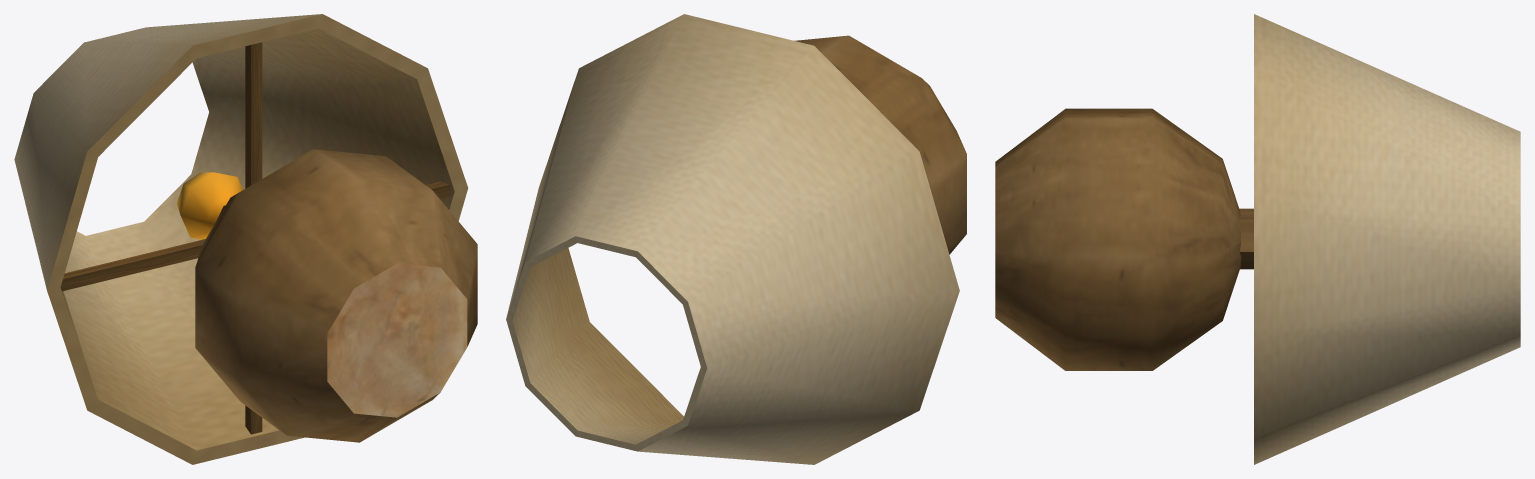
The model's file is Log_Lamp_B.fbx.
The picture shows the model from 3 angles, left to right: view 1: azimuth 30°, elevation 25°; view 2: azimuth 150°, elevation 25°; view 3: azimuth 270°, elevation 25°; orthographic projection. The views are drawn at different scales.
Parts seen in each view (by area): view 1: Log_Lamp_B; view 2: Log_Lamp_B; view 3: Log_Lamp_B.
Part boxes in pixels (left/top/right/bottom): Log_Lamp_B: left=14, top=14, right=477, bottom=464; Log_Lamp_B: left=506, top=14, right=966, bottom=464; Log_Lamp_B: left=995, top=14, right=1520, bottom=464.
Size of the model in its own units: 6.96 by 6.62 by 8.05.
